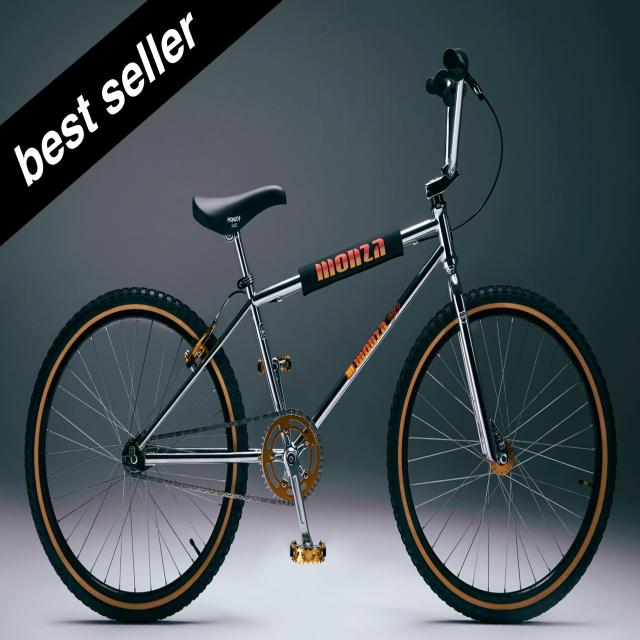bmx-bike: (22, 47, 618, 624)
